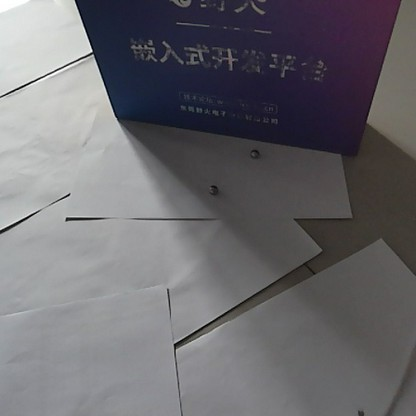ironball: (247, 145, 260, 160), (206, 181, 218, 196)
